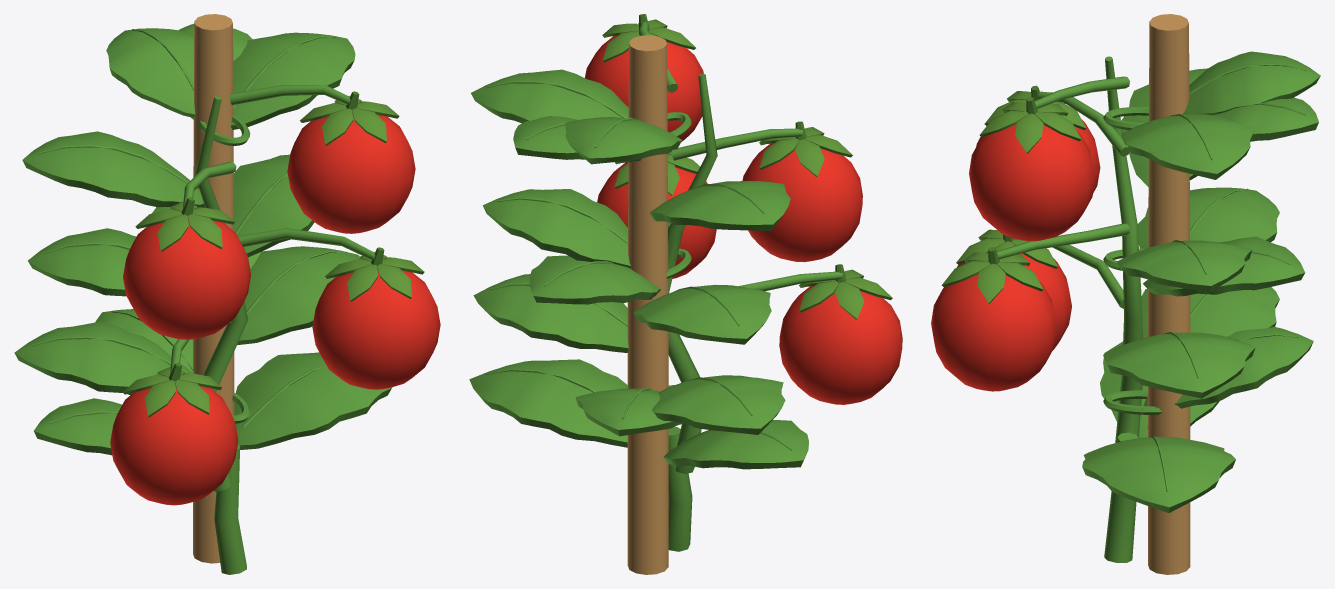
Rendered from plant001.glb.
The picture shows the model from 3 angles, left to right: view 1: azimuth 30°, elevation 25°; view 2: azimuth 150°, elevation 25°; view 3: azimuth 270°, elevation 25°; orthographic projection. The views are drawn at different scales.
Parts seen in each view (by area): view 1: Plant01 | static geometry, HarvestTarget Tomato P01 F03, HarvestTarget Tomato P01 F01, HarvestTarget Tomato P01 F02, HarvestTarget Tomato P01 F04; view 2: Plant01 | static geometry, HarvestTarget Tomato P01 F01, HarvestTarget Tomato P01 F03, HarvestTarget Tomato P01 F04, HarvestTarget Tomato P01 F02; view 3: Plant01 | static geometry, HarvestTarget Tomato P01 F04, HarvestTarget Tomato P01 F02, HarvestTarget Tomato P01 F01, HarvestTarget Tomato P01 F03.
Part boxes in pixels (x1,y1,x2,y2): Plant01 | static geometry: (14, 14, 392, 574); HarvestTarget Tomato P01 F03: (123, 197, 251, 339); HarvestTarget Tomato P01 F01: (110, 363, 238, 505); HarvestTarget Tomato P01 F02: (312, 247, 440, 389); HarvestTarget Tomato P01 F04: (287, 91, 415, 233); Plant01 | static geometry: (469, 22, 842, 574); HarvestTarget Tomato P01 F01: (779, 264, 902, 404); HarvestTarget Tomato P01 F03: (742, 121, 862, 262); HarvestTarget Tomato P01 F04: (585, 14, 703, 141); HarvestTarget Tomato P01 F02: (597, 152, 716, 278); Plant01 | static geometry: (996, 14, 1320, 574); HarvestTarget Tomato P01 F04: (969, 97, 1095, 241); HarvestTarget Tomato P01 F02: (931, 247, 1057, 391); HarvestTarget Tomato P01 F01: (956, 229, 1071, 349); HarvestTarget Tomato P01 F03: (976, 85, 1100, 193).
Size of the model in its own units: 1.47 by 2.11 by 1.37.
